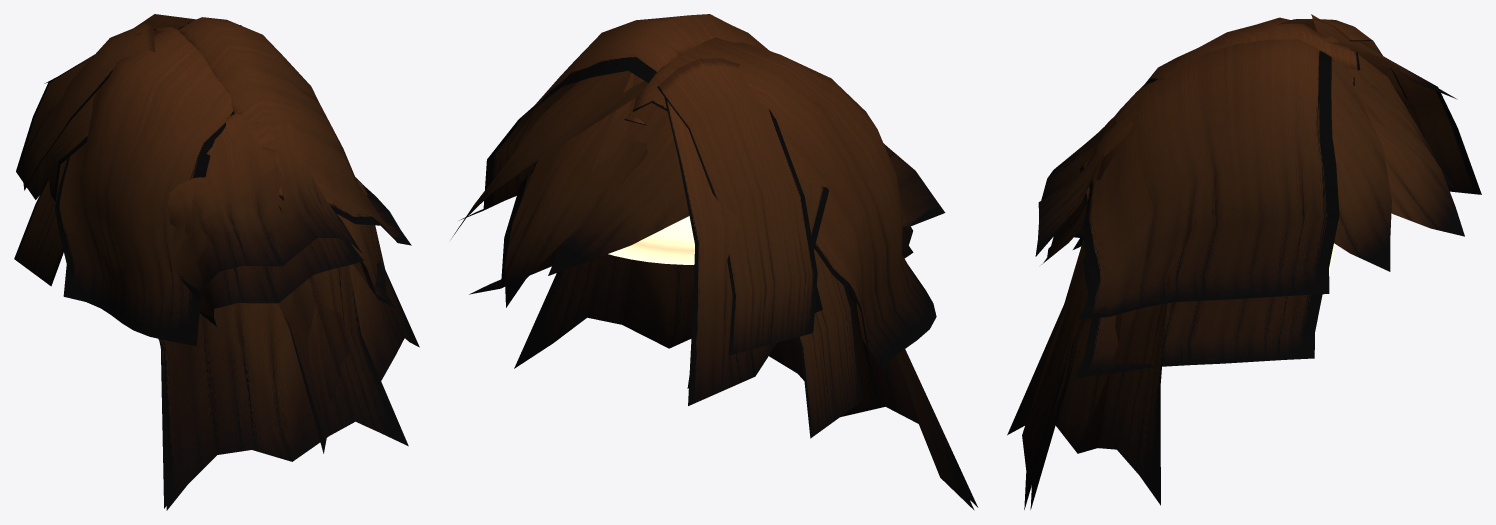
The model's file is Wig.fbx.
The picture shows the model from 3 angles, left to right: view 1: azimuth 30°, elevation 25°; view 2: azimuth 150°, elevation 25°; view 3: azimuth 270°, elevation 25°; orthographic projection. The views are drawn at different scales.
Visible parts, largest first — view 1: Plane.025; view 2: Plane.025, Sphere; view 3: Plane.025.
Part boxes in pixels (box(x1,y1,x2,y2)): Plane.025: box(14, 14, 419, 510); Plane.025: box(451, 14, 978, 510); Sphere: box(608, 216, 694, 264); Plane.025: box(1007, 14, 1481, 509).
Bounding box in the file's own units: 0.7497 × 0.8774 × 0.8444.
Materials: 2 (1 with a texture image).
